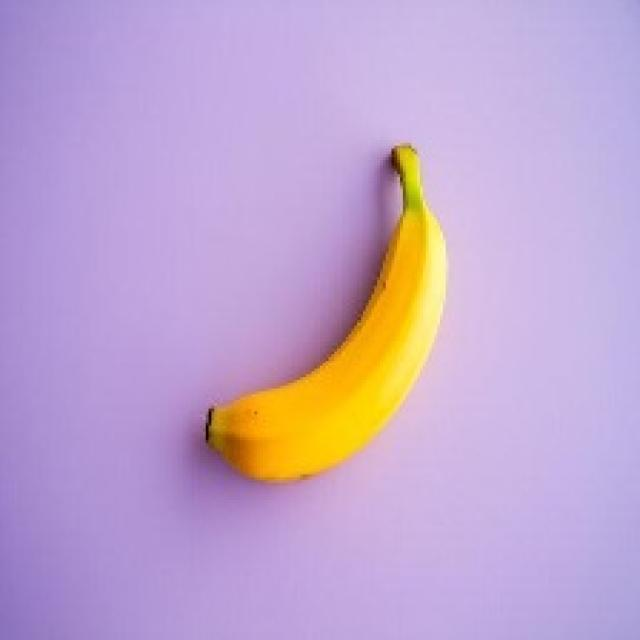Banana: (203, 140, 446, 483)
